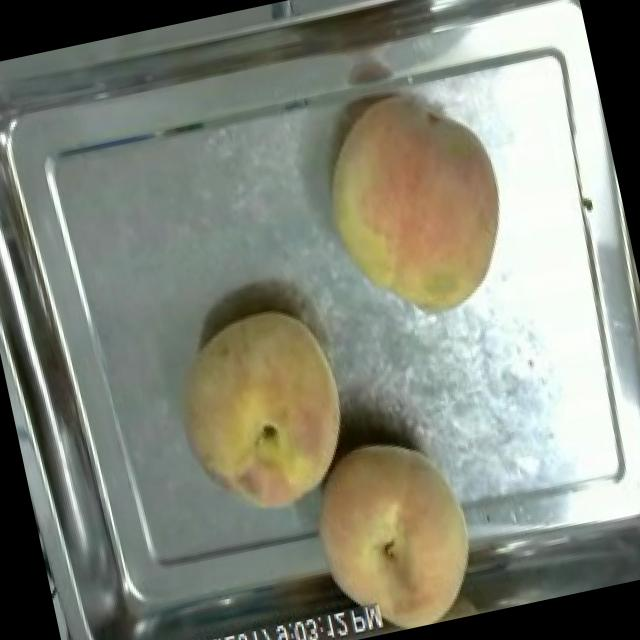Fruit: (300, 72, 532, 339), (154, 294, 370, 534), (291, 418, 496, 640)
